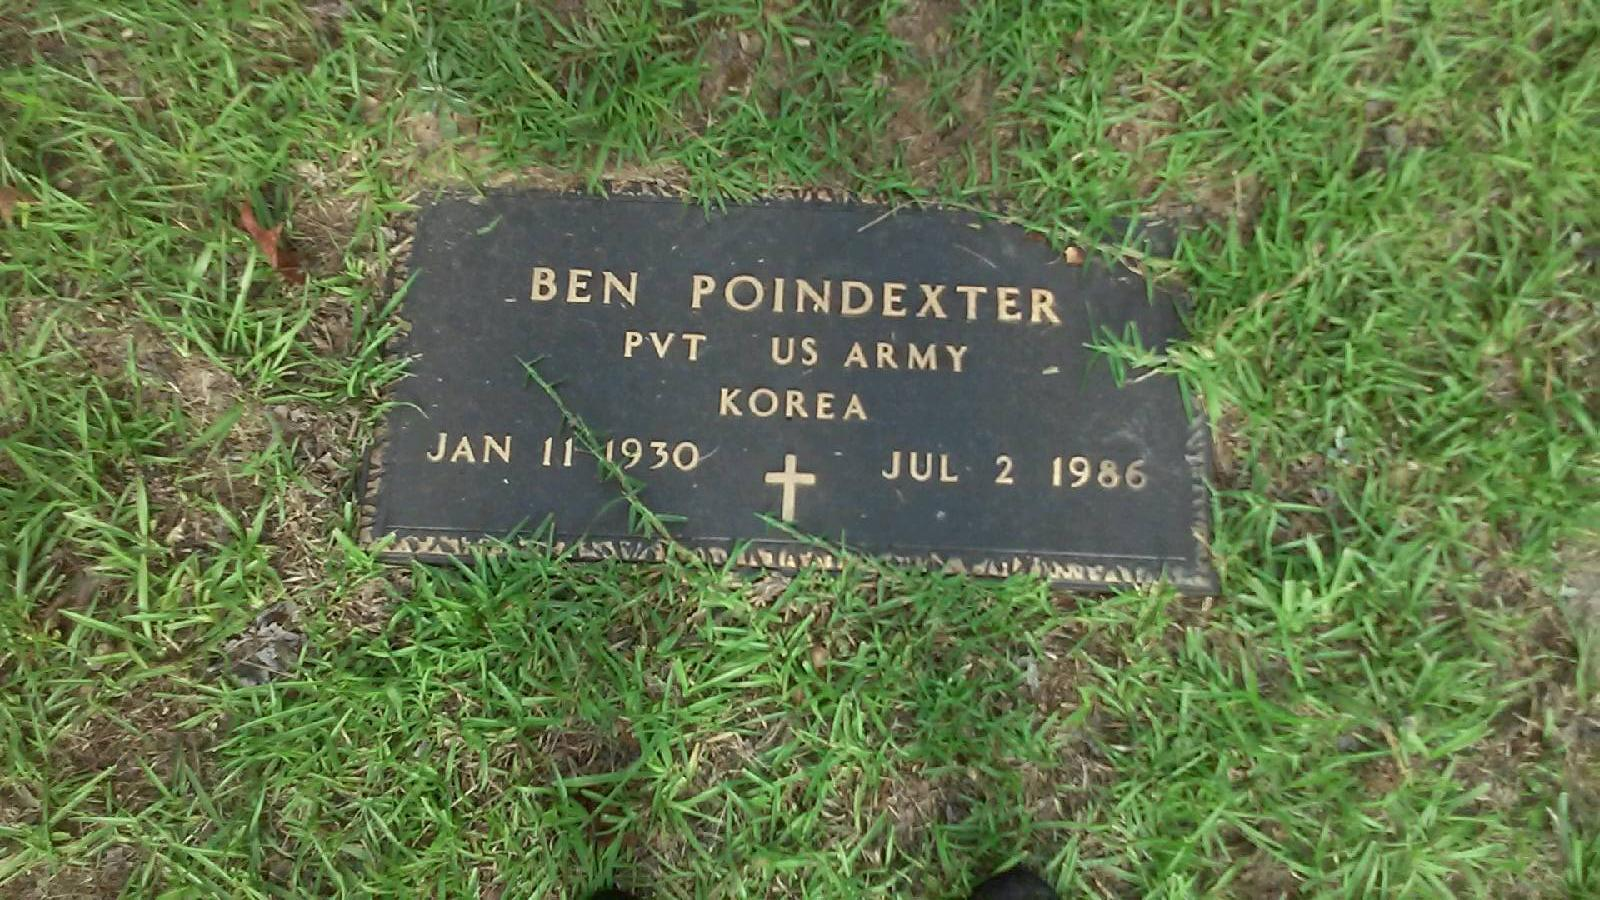flat: (368, 157, 1227, 620)
